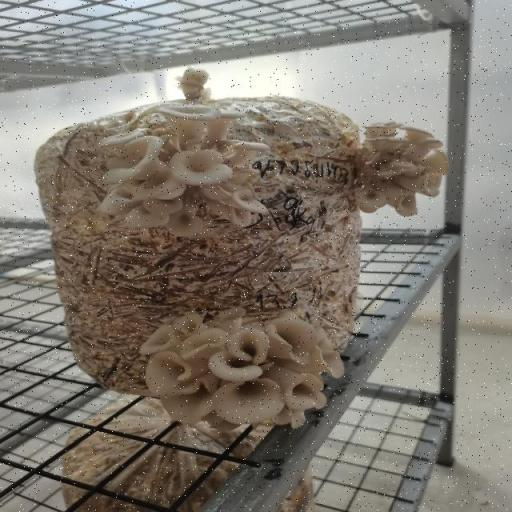White Oyster Mushroom: (140, 308, 346, 433), (97, 101, 275, 238), (349, 107, 451, 228)
